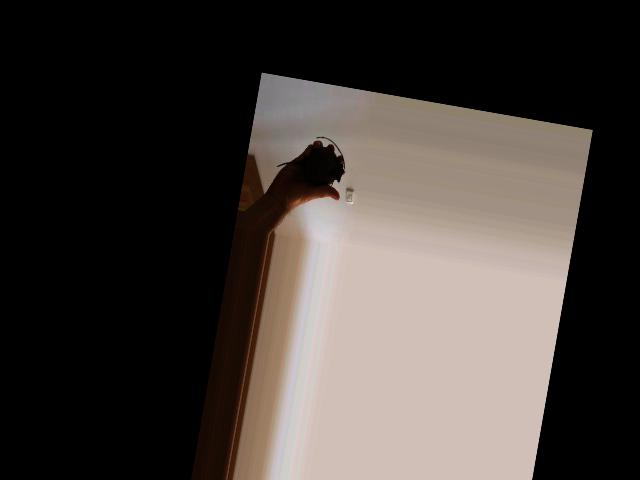beet: (275, 129, 350, 188)
